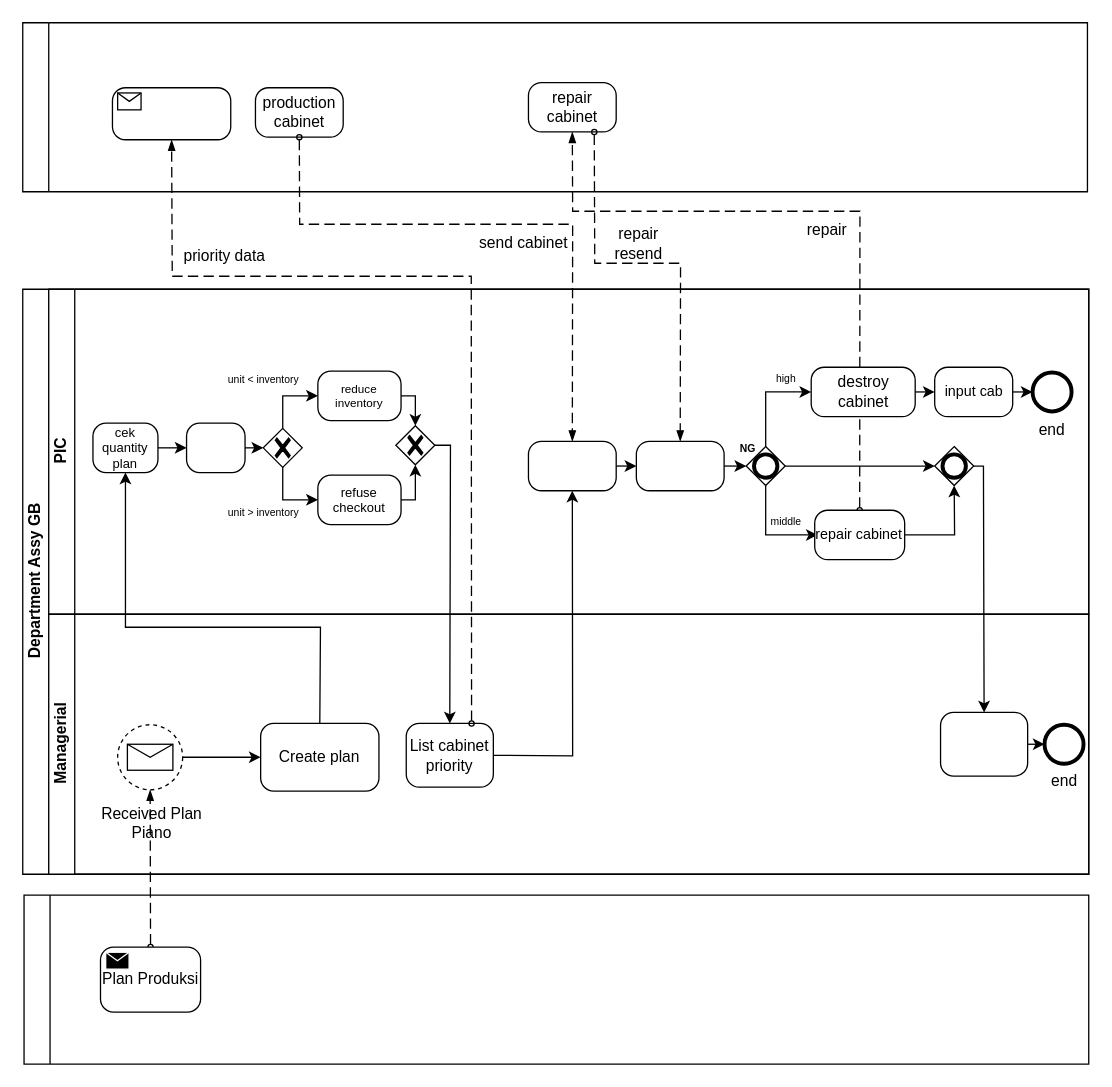
This 1112x1087 diagram has some shape labels left out. The box of each missing label's shape, as (x1, y1, x2, y2) in pixels:
cek & input cabinet: (635, 440, 724, 491)
checkout plan: (185, 422, 245, 473)
Ratio Set Data: (939, 711, 1028, 776)
received cabinet: (527, 440, 616, 491)
received cabinet priority: (111, 86, 231, 140)
Sanding Buffing: (21, 21, 1087, 192)
SAP: (23, 894, 1089, 1064)
